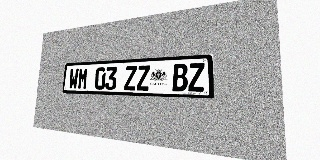0: (94, 67, 106, 90)
3: (105, 67, 117, 90)
B: (172, 63, 188, 91)
M: (77, 68, 88, 89)
W: (68, 68, 79, 89)
Z: (188, 63, 205, 92), (136, 65, 150, 91), (124, 66, 137, 90)
